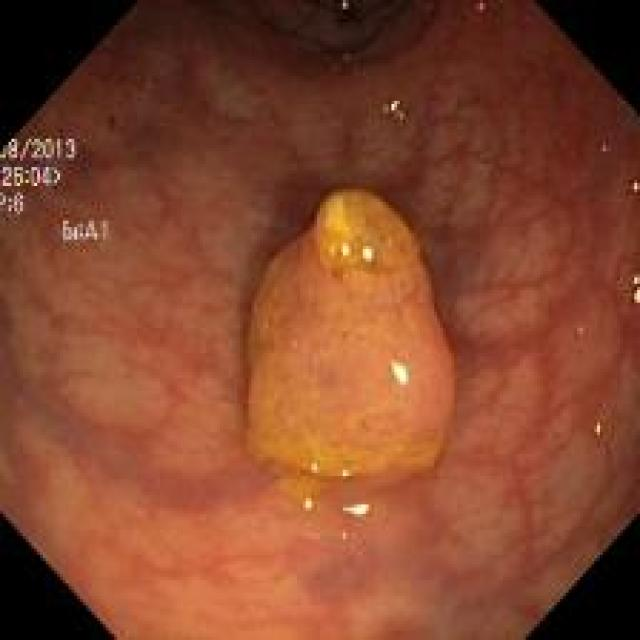Polyps: (248, 190, 456, 483)
